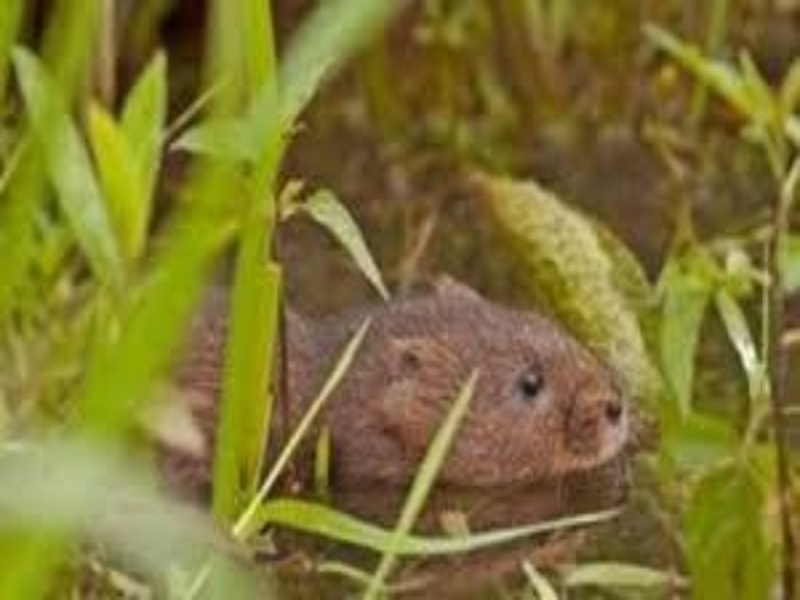minkish: (83, 264, 630, 491)
